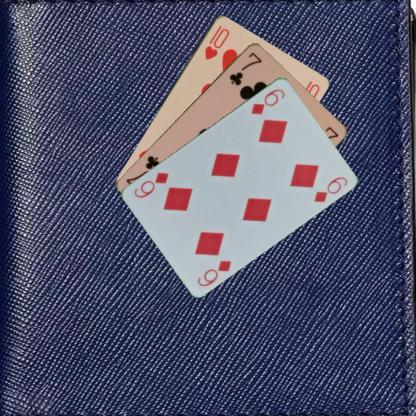10h: (202, 22, 231, 61)
6d: (195, 257, 233, 288), (249, 86, 286, 116)
7c: (226, 49, 264, 87)
